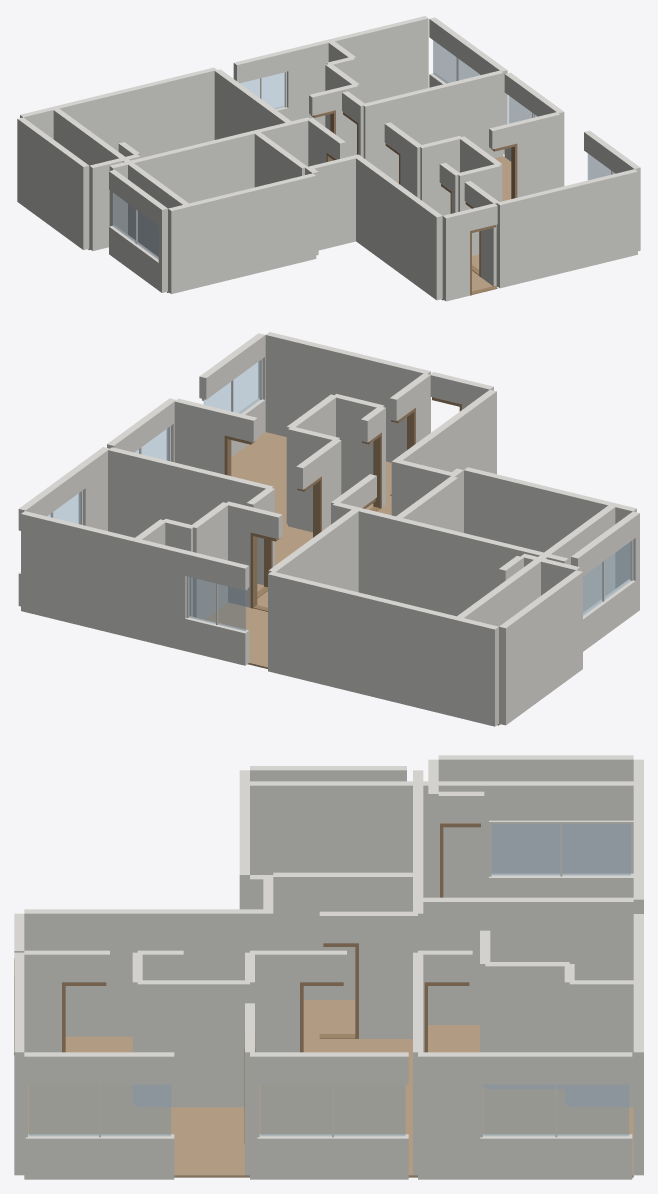
File: colorful_9448.glb
The picture shows the model from 3 angles, top to bottom: view 1: azimuth 30°, elevation 25°; view 2: azimuth 150°, elevation 25°; view 3: azimuth 270°, elevation 25°; orthographic projection. The views are drawn at different scales.
Visible parts, largest first — view 1: Wall_22_solid, Wall_13_solid, Wall_16_solid, Wall_29_solid, Wall_8_solid, Wall_33_solid, Wall_39_solid, Wall_27_solid, Wall_14_solid, Wall_20_solid, Wall_37_solid, Wall_32_solid (+35 smaller); view 2: Wall_16_solid, Wall_27_solid, Wall_22_solid, Wall_33_solid, Wall_39_solid, Wall_29_solid, Wall_13_solid, Wall_32_solid, Wall_14_solid, Wall_8_solid, Wall_34_solid, Wall_20_solid (+42 smaller); view 3: Wall_14_solid, Wall_8_solid, Wall_19_solid, Floor_2_bedroom, Wall_17_solid, Wall_11_solid, Wall_28_solid, Floor_4_kitchen, Wall_24_solid, Window_11, Window_12, Window_13 (+37 smaller).
Part boxes in pixels (x1,y1,x2,y2): Wall_22_solid: [496, 169, 637, 288]; Wall_13_solid: [186, 173, 316, 289]; Wall_16_solid: [68, 67, 216, 157]; Wall_29_solid: [362, 70, 503, 181]; Wall_8_solid: [353, 154, 442, 300]; Wall_33_solid: [17, 117, 89, 249]; Wall_39_solid: [109, 130, 255, 234]; Wall_27_solid: [328, 16, 428, 103]; Wall_14_solid: [53, 108, 188, 256]; Wall_20_solid: [514, 112, 560, 197]; Wall_37_solid: [305, 154, 357, 250]; Wall_32_solid: [285, 39, 331, 126]; Wall_16_solid: [268, 571, 442, 712]; Wall_27_solid: [21, 511, 137, 638]; Wall_22_solid: [265, 332, 430, 462]; Wall_33_solid: [499, 570, 582, 725]; Wall_39_solid: [395, 518, 568, 616]; Wall_29_solid: [108, 447, 273, 585]; Wall_13_solid: [464, 467, 615, 552]; Wall_32_solid: [134, 538, 188, 650]; Wall_14_solid: [457, 505, 615, 626]; Wall_8_solid: [391, 389, 496, 515]; Wall_34_solid: [456, 617, 498, 726]; Wall_20_solid: [174, 398, 228, 474]; Wall_14_solid: [250, 781, 633, 897]; Wall_8_solid: [24, 909, 273, 1036]; Wall_19_solid: [137, 980, 249, 1107]; Floor_2_bedroom: [28, 1084, 249, 1177]; Wall_17_solid: [485, 897, 633, 980]; Wall_11_solid: [273, 872, 417, 999]; Wall_28_solid: [418, 1052, 480, 1179]; Floor_4_kitchen: [259, 1075, 417, 1177]; Wall_24_solid: [485, 962, 569, 1089]; Window_11: [483, 1084, 629, 1136]; Window_12: [260, 1084, 405, 1136]; Window_13: [28, 1084, 171, 1136].
Size of the model in its own units: 14.19 by 2.75 by 12.53.
